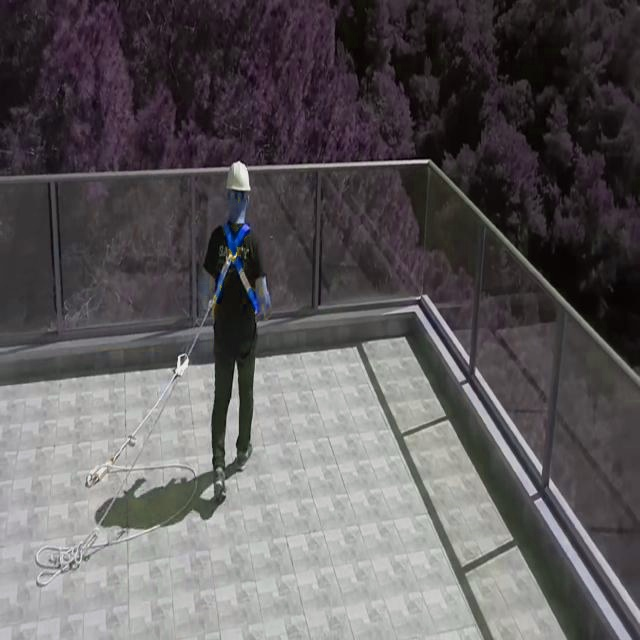safety belt: (179, 226, 274, 324)
